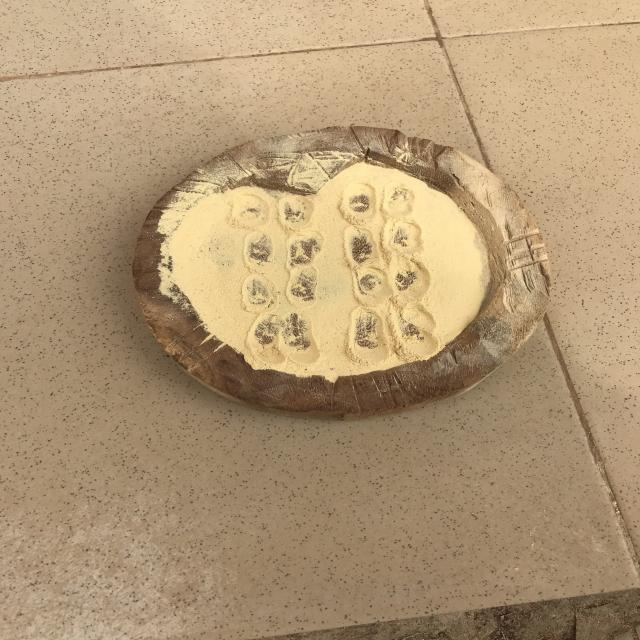double: (345, 307, 438, 365), (245, 316, 324, 370), (241, 228, 321, 272), (338, 180, 421, 222), (339, 225, 426, 262), (350, 268, 434, 306), (239, 274, 322, 312), (230, 192, 314, 228)
